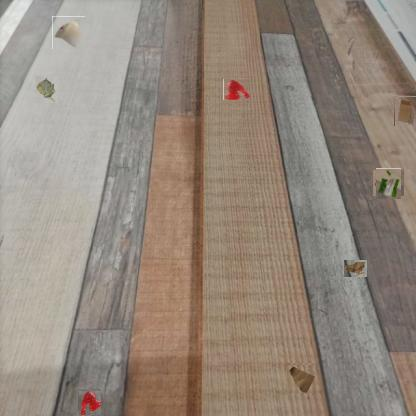dirty: (52, 16, 85, 49), (286, 364, 316, 394), (374, 169, 403, 198), (394, 96, 416, 126), (35, 75, 58, 103), (343, 259, 367, 277)
liquid: (78, 390, 102, 416), (223, 78, 250, 100)
